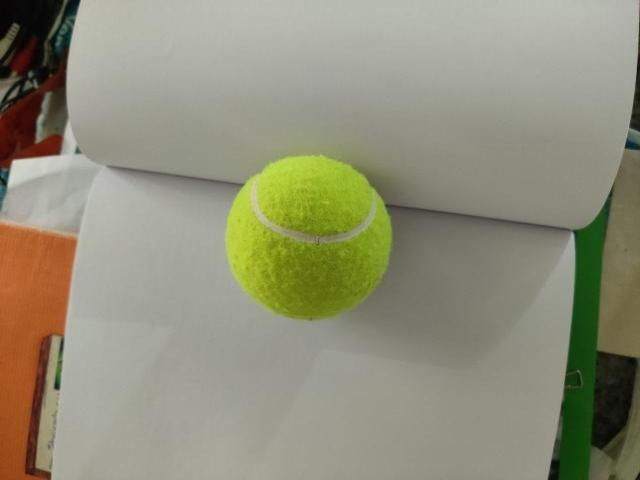tennis-ball: (224, 154, 393, 320)
